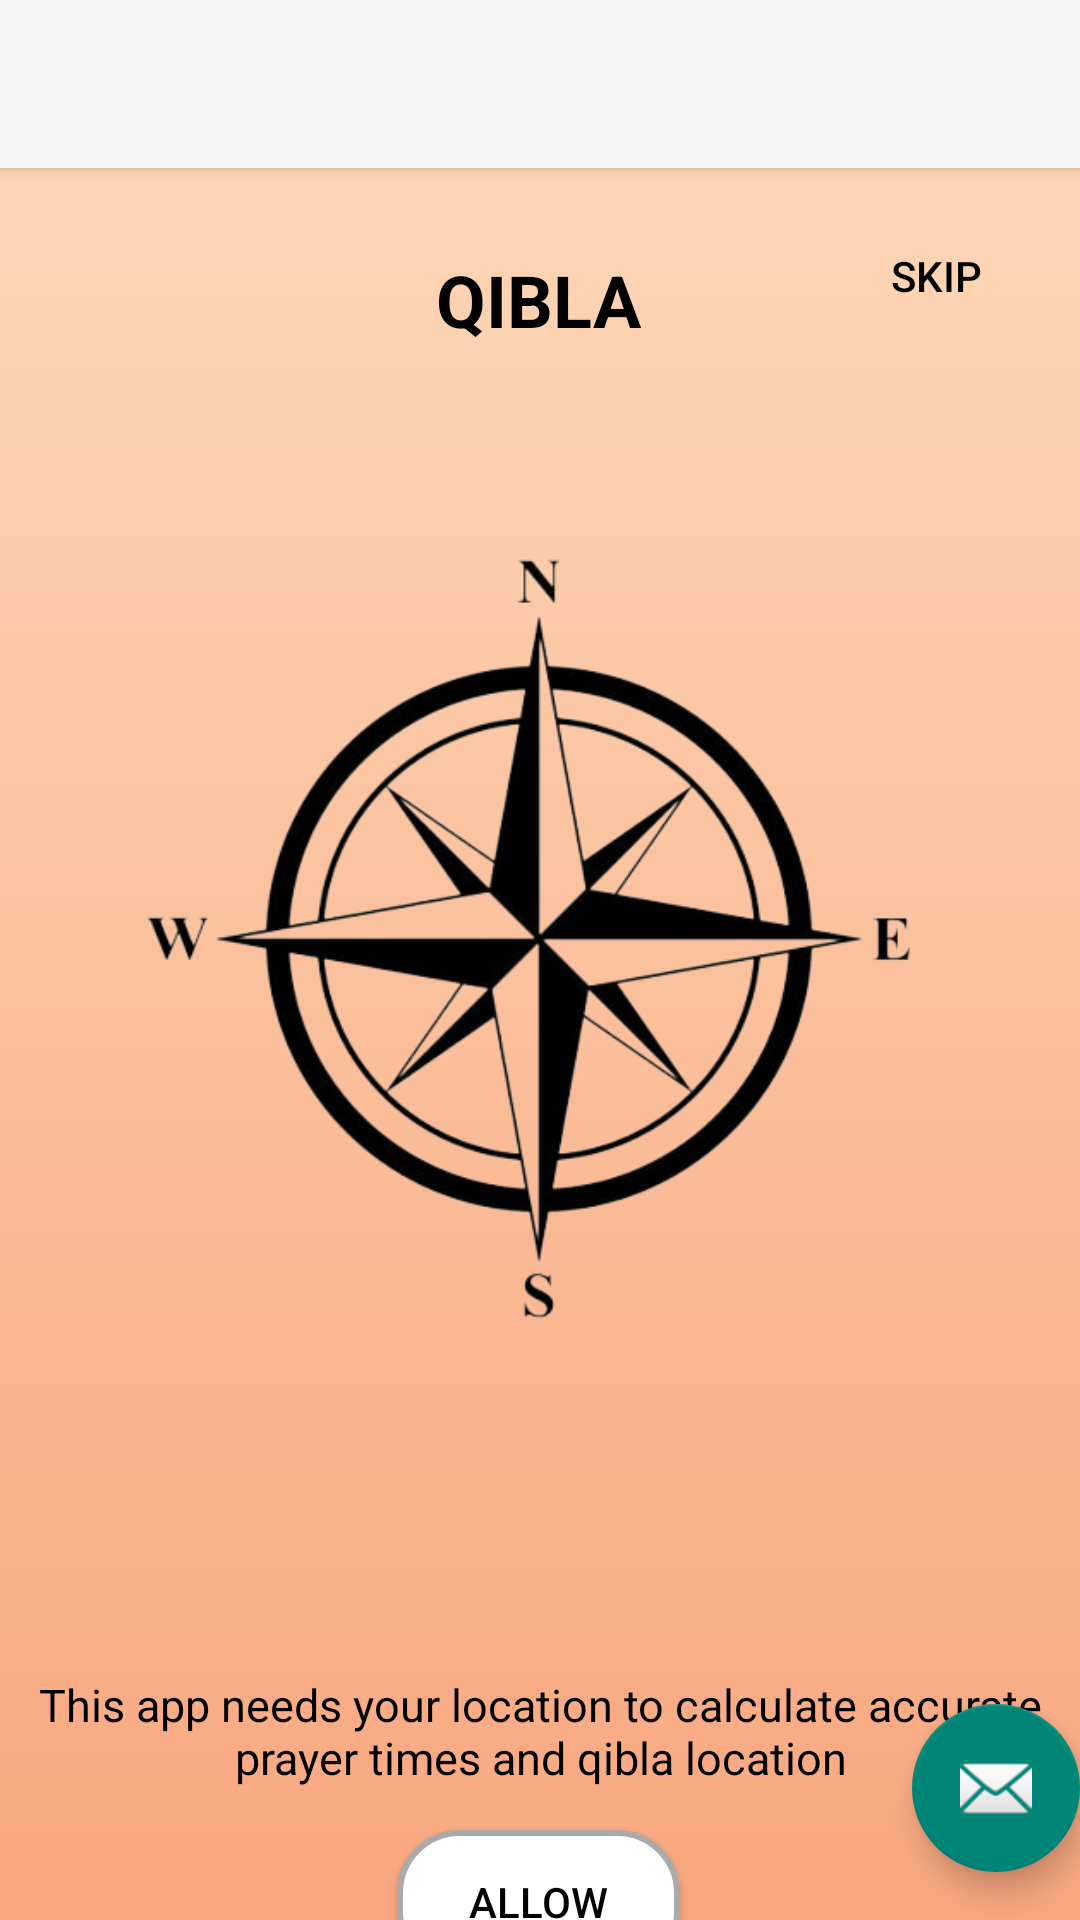

Screen size 1080w x 1920h. Icon name, then its center in pixels as [x,y]:
email: [996,1788]
